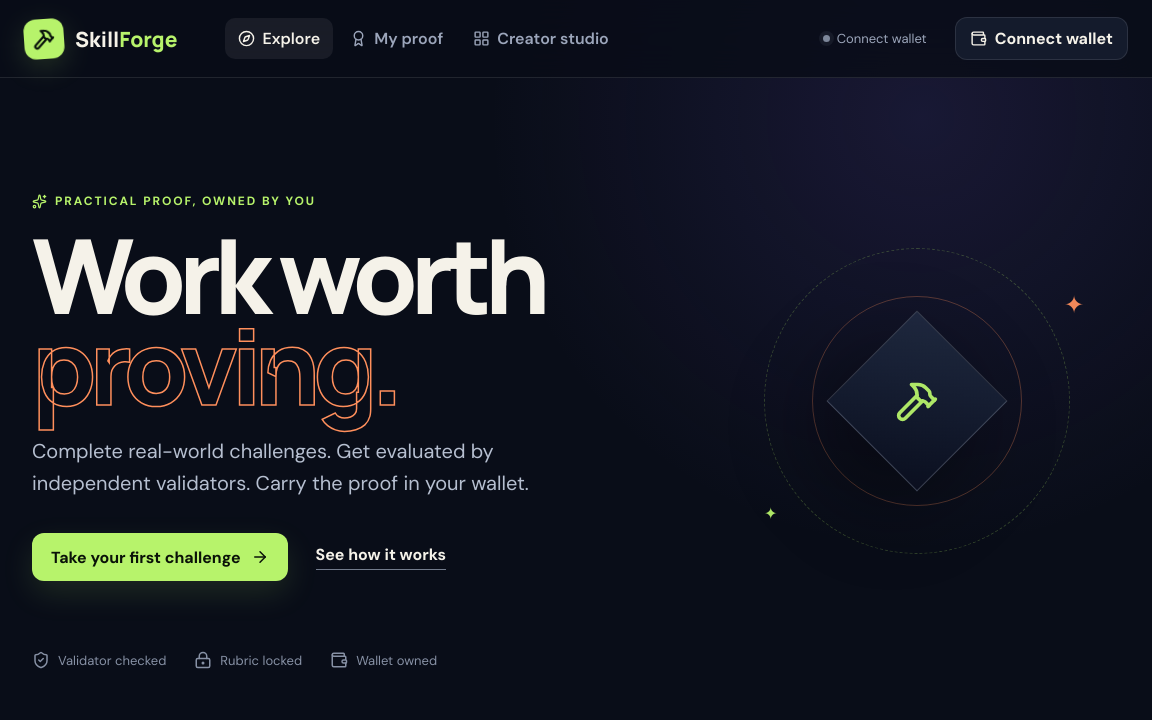
SkillForge shell › explains owner-only challenge creation before a wallet connects
Click the button "Creator studio" at (541, 38), box [460,18,622,59]
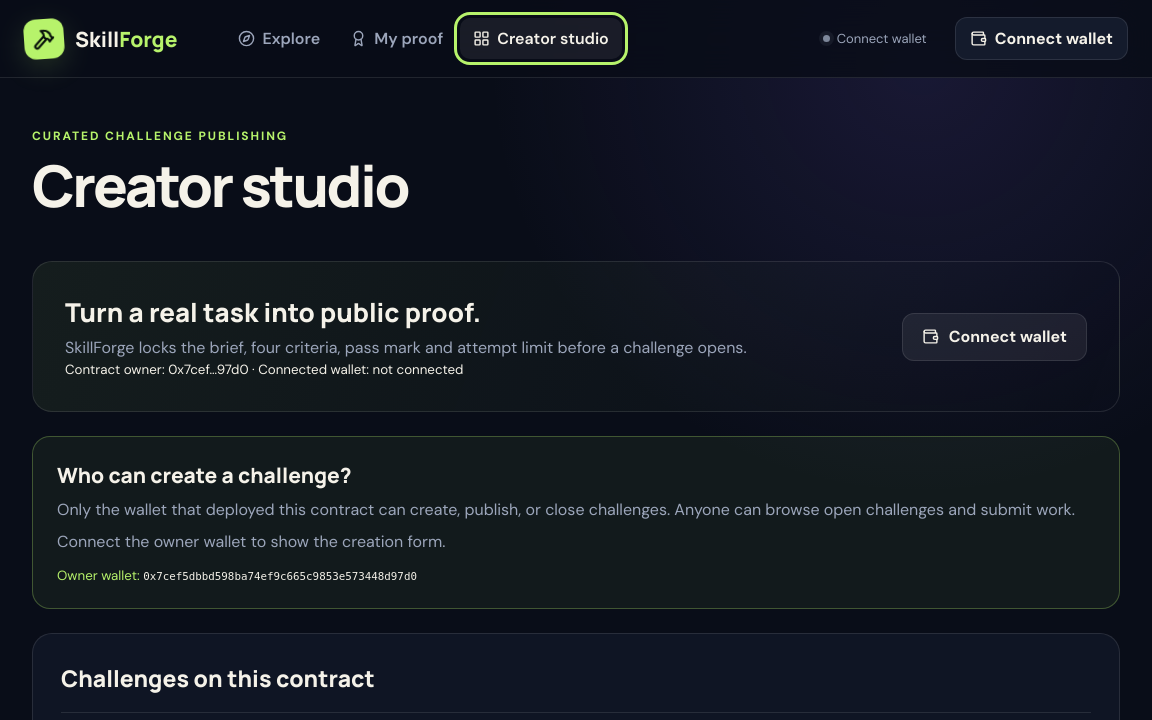
Now the heading "Who can create a challenge?" is shown, box [57,461,352,489]
Now the text "only the wallet that deployed this contract can create, publish, or close challenges" is shown, box [57,499,1075,520]
Now the text "Connect the owner wallet to show the creation form." is shown, box [57,531,446,552]
